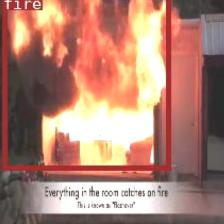fire: (1, 0, 170, 169)
